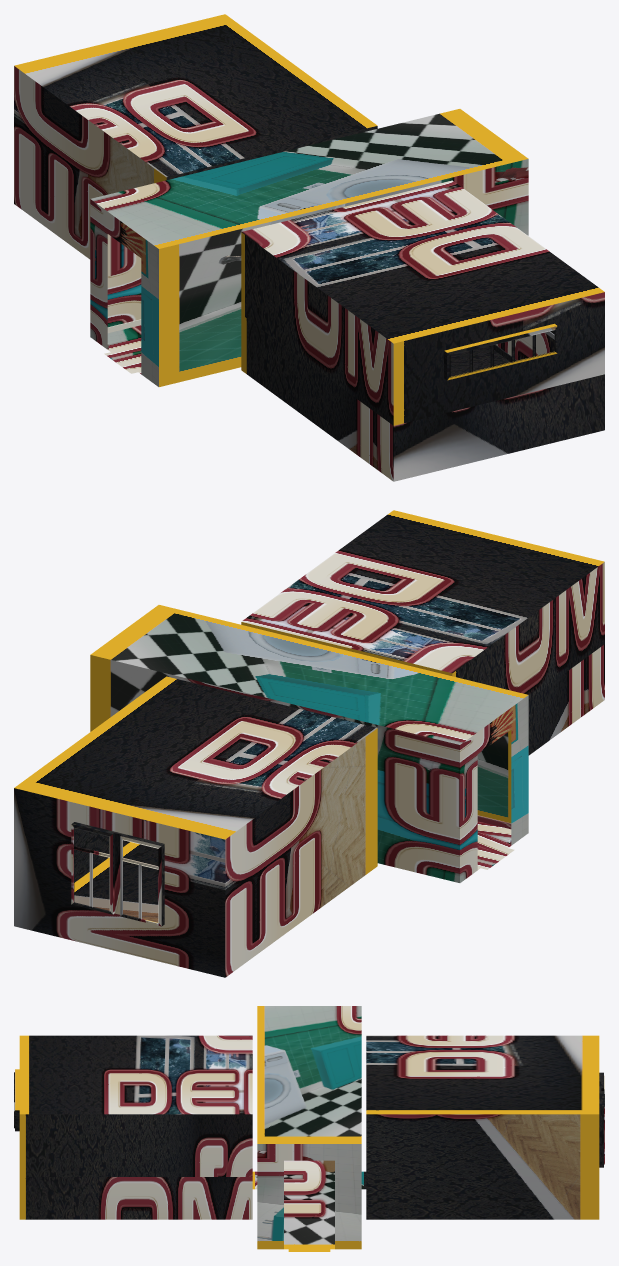
File: Level.FBX
3 renders of one model, top to bottom at view 1: azimuth 30°, elevation 25°; view 2: azimuth 150°, elevation 25°; view 3: azimuth 270°, elevation 25°, orthographic. The views are drawn at different scales.
Parts seen in each view (by area): view 1: Level_01, Level_02, Level_03; view 2: Level_03, Level_02, Level_01; view 3: Level_03, Level_01, Level_02.
Part boxes in pixels (x1=…): Level_01: x1=241, y1=180, x2=604, y2=481; Level_02: x1=90, y1=109, x2=528, y2=386; Level_03: x1=14, y1=14, x2=377, y2=259; Level_03: x1=14, y1=676, x2=377, y2=977; Level_02: x1=90, y1=605, x2=528, y2=882; Level_01: x1=241, y1=510, x2=604, y2=755; Level_03: x1=364, y1=1035, x2=604, y2=1219; Level_01: x1=14, y1=1035, x2=254, y2=1219; Level_02: x1=255, y1=1006, x2=363, y2=1251.
Bounding box in the file's own units: 7.26 × 2.5 × 12.7.
